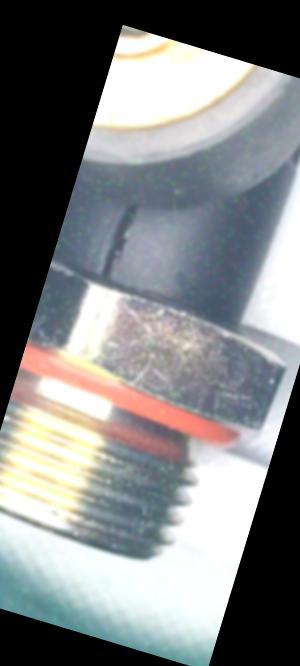craze: (91, 191, 146, 291)
